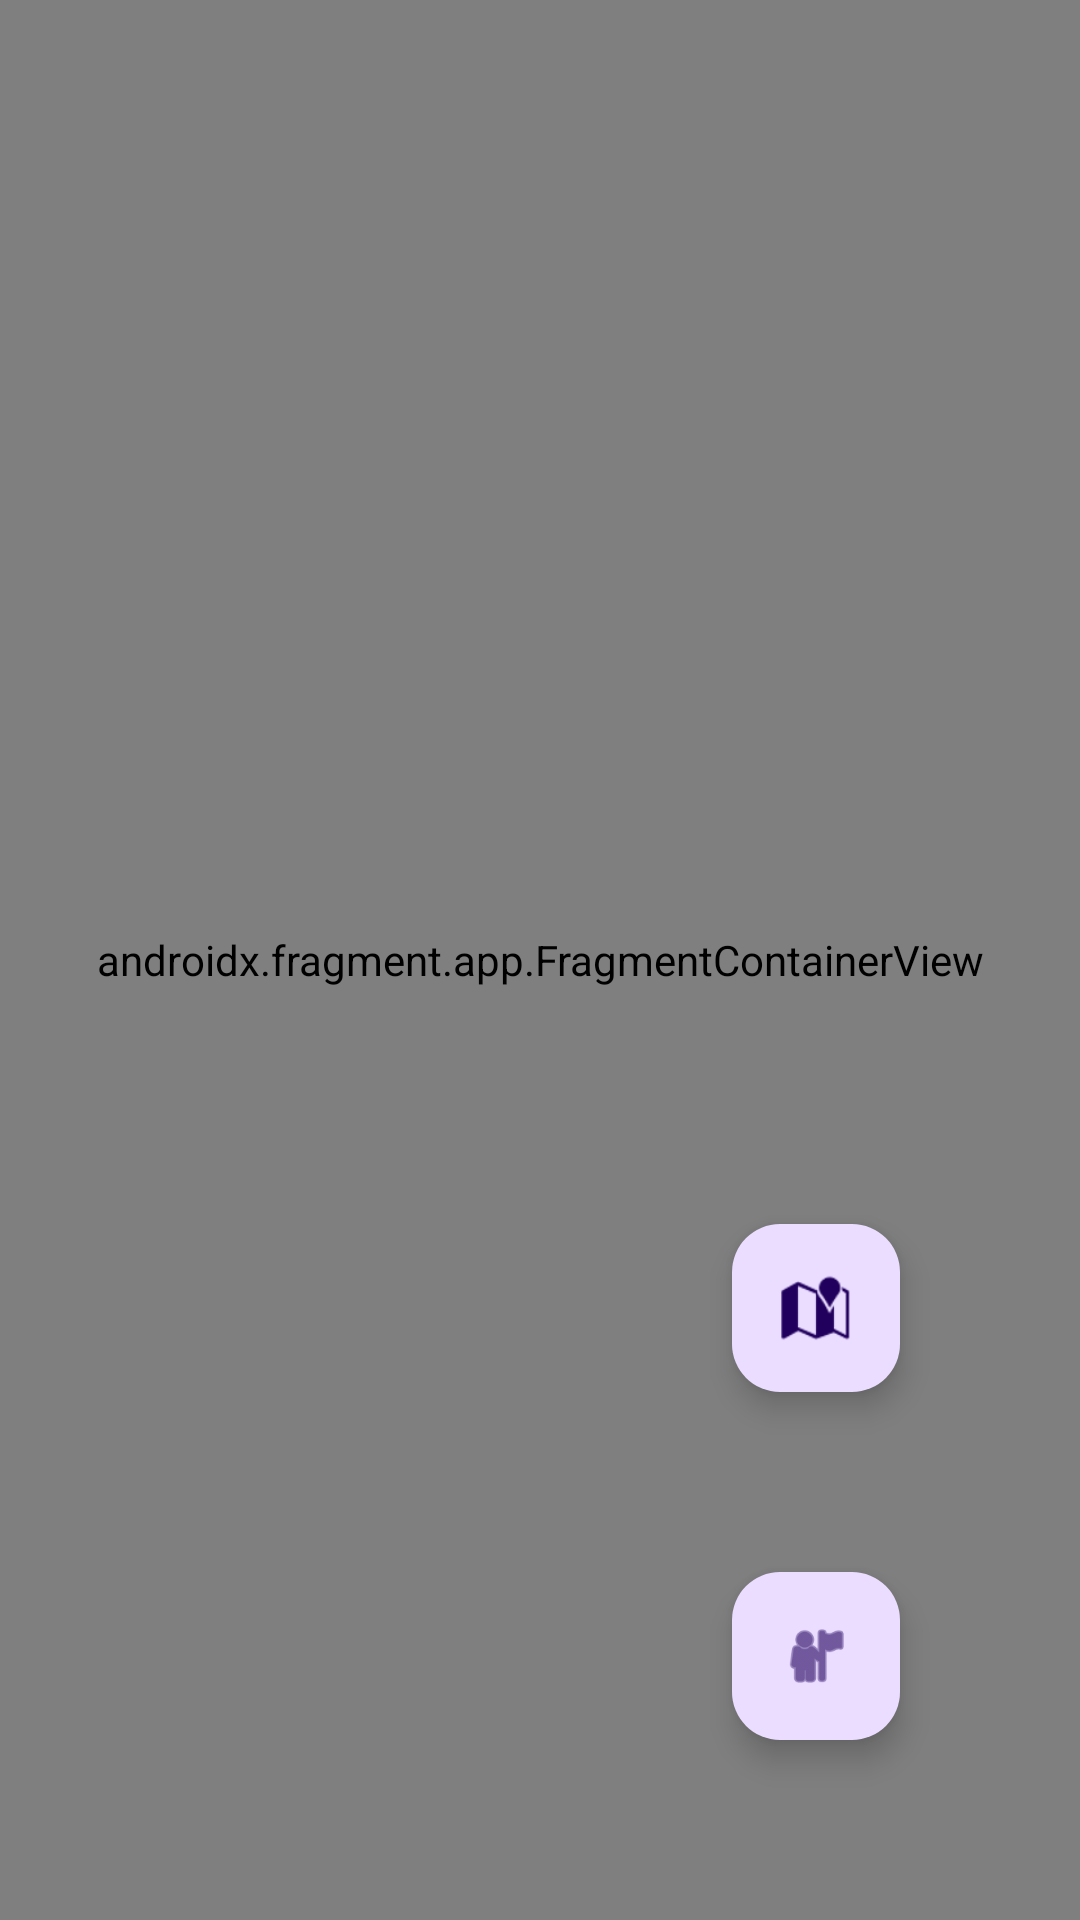

Named icons in this screenshot (1080 x 1920) and their bounding boxes, (x1, y1, x2, y2):
切换地图图层: (732, 1224, 900, 1392)
进入街景: (732, 1572, 900, 1740)
